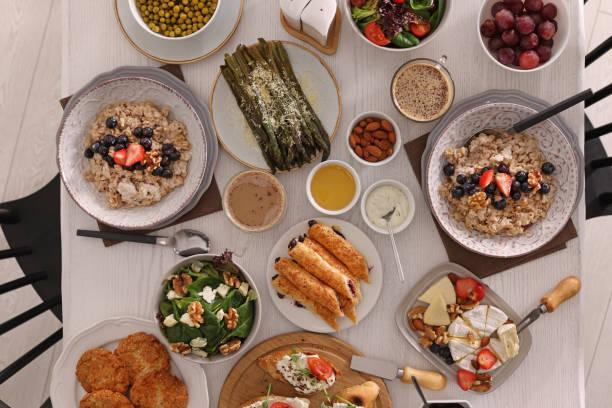Braised Crucian Carp: (421, 88, 581, 257), (55, 65, 212, 231), (396, 263, 532, 394), (207, 40, 337, 175), (48, 313, 214, 408), (266, 218, 382, 332), (154, 253, 261, 366), (113, 0, 244, 64), (477, 0, 571, 72), (345, 0, 450, 51)
